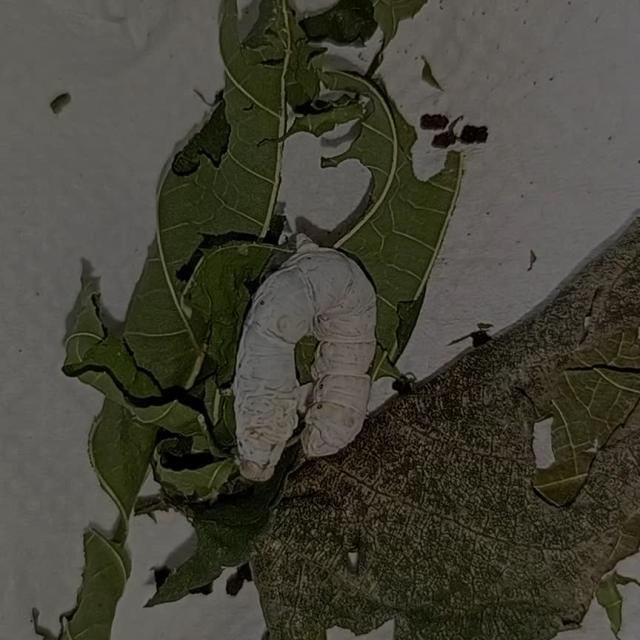Healthy: (217, 215, 399, 499)
